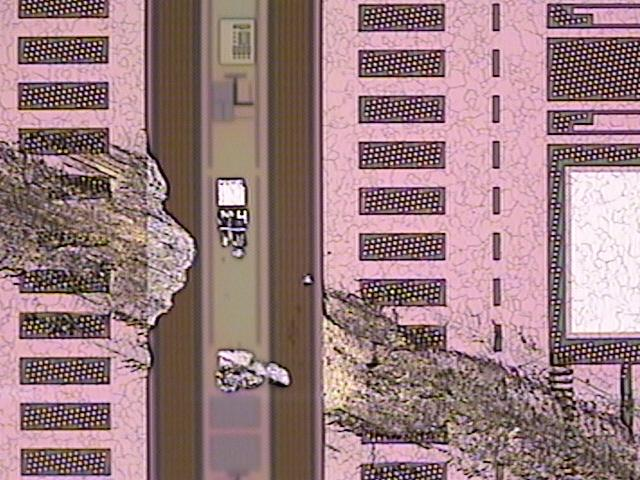BLOCK ETCH: (1, 131, 640, 480)
